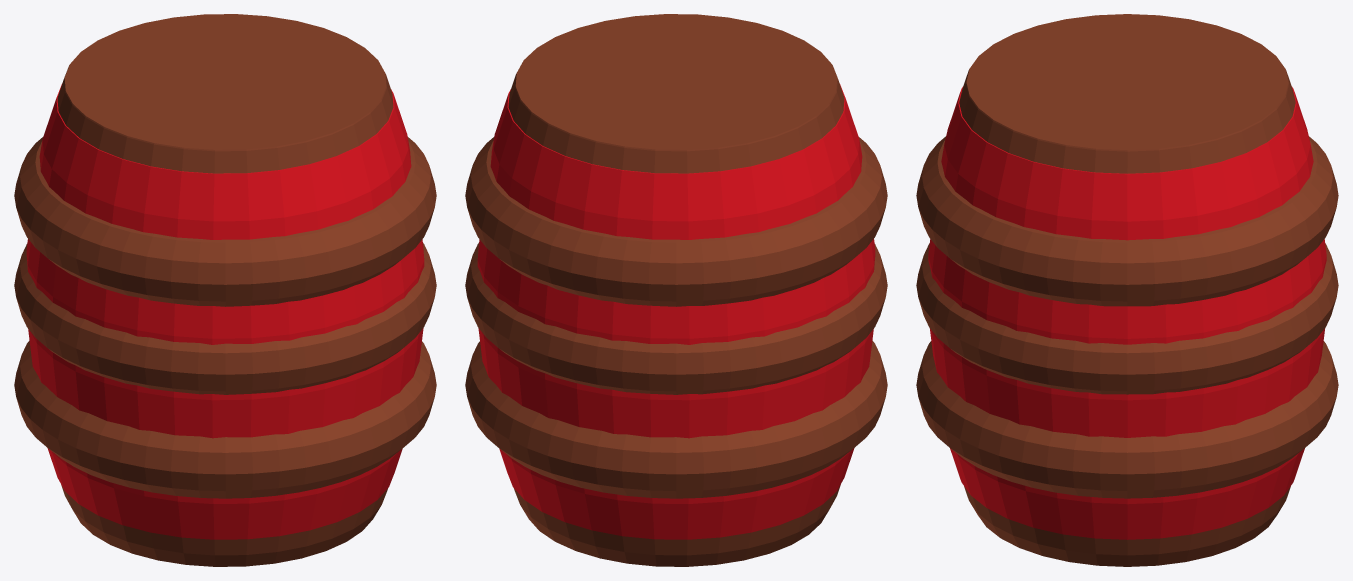
Rendered from redBarrel.fbx.
The picture shows the model from 3 angles, left to right: view 1: azimuth 30°, elevation 25°; view 2: azimuth 150°, elevation 25°; view 3: azimuth 270°, elevation 25°; orthographic projection.
Parts seen in each view (by area): view 1: Cylinder, Sphere, Torus.001, Torus.002, Torus, Sphere.001; view 2: Cylinder, Sphere, Torus.001, Torus.002, Torus, Sphere.001; view 3: Cylinder, Sphere, Torus.001, Torus.002, Torus, Sphere.001.
Part boxes in pixels (left/top/right/bottom): Cylinder: left=26, top=84, right=424, bottom=539; Sphere: left=57, top=14, right=393, bottom=173; Torus.001: left=14, top=137, right=436, bottom=306; Torus.002: left=14, top=340, right=436, bottom=498; Torus: left=14, top=243, right=436, bottom=394; Sphere.001: left=61, top=485, right=387, bottom=566; Cylinder: left=477, top=84, right=875, bottom=539; Sphere: left=508, top=14, right=844, bottom=173; Torus.001: left=465, top=137, right=887, bottom=306; Torus.002: left=465, top=340, right=887, bottom=498; Torus: left=465, top=243, right=887, bottom=394; Sphere.001: left=514, top=485, right=840, bottom=566; Cylinder: left=928, top=87, right=1326, bottom=539; Sphere: left=959, top=14, right=1295, bottom=173; Torus.001: left=916, top=136, right=1338, bottom=306; Torus.002: left=916, top=341, right=1338, bottom=498; Torus: left=916, top=243, right=1338, bottom=394; Sphere.001: left=964, top=486, right=1290, bottom=566.
Size of the model in its own units: 570 by 626 by 570.
